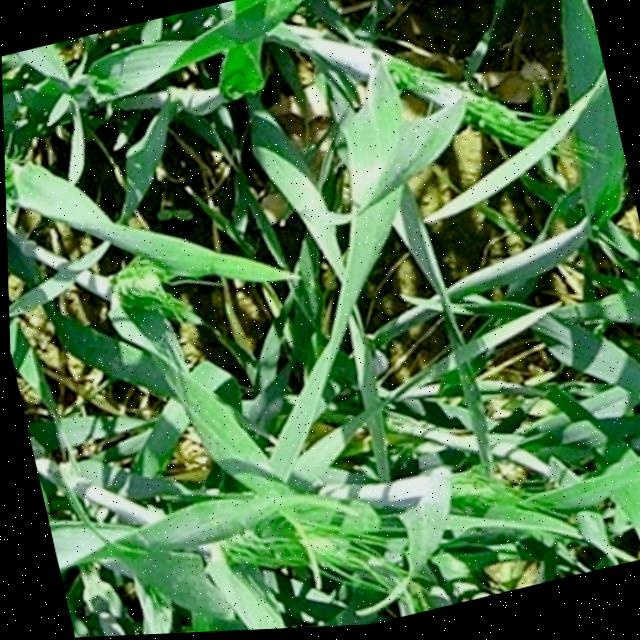healthy_wheat: (165, 0, 617, 220), (1, 17, 233, 414), (23, 368, 318, 640), (270, 356, 529, 631), (465, 217, 640, 590), (209, 169, 472, 409), (442, 131, 637, 260)
